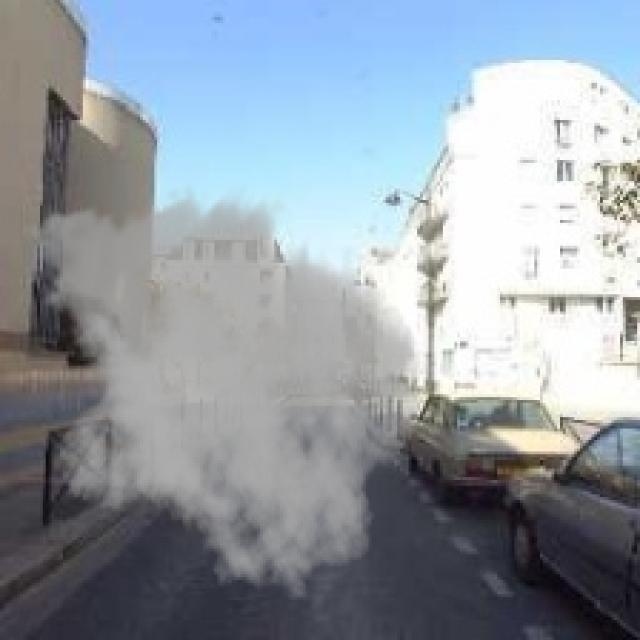Smoke: (17, 183, 423, 603)
